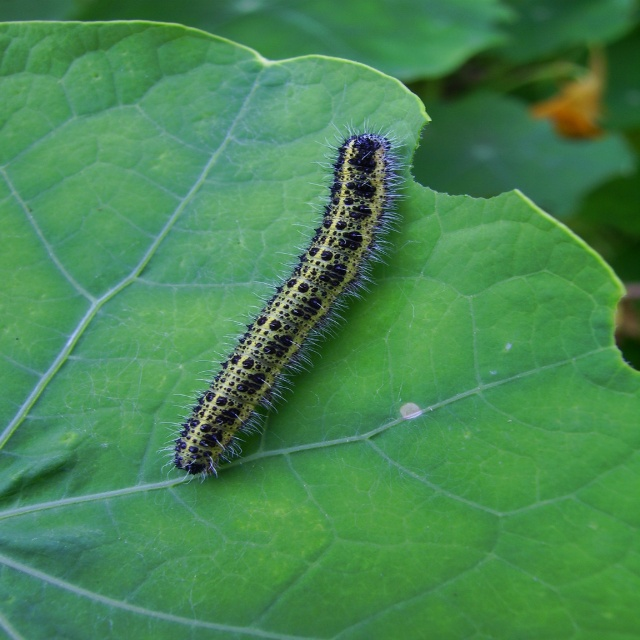Caterpillar: (155, 117, 412, 484)
